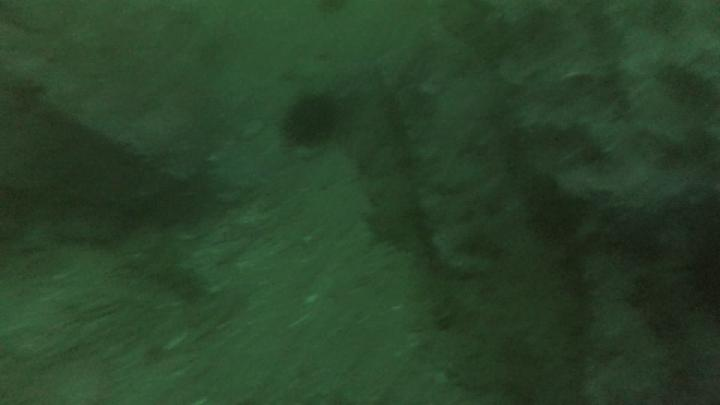echinus: (279, 87, 342, 156)
holothurian: (147, 256, 205, 302)
